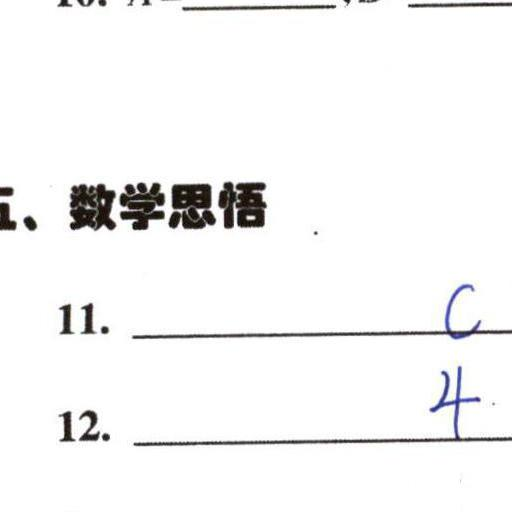ans: (423, 358, 480, 438), (436, 276, 484, 341)
